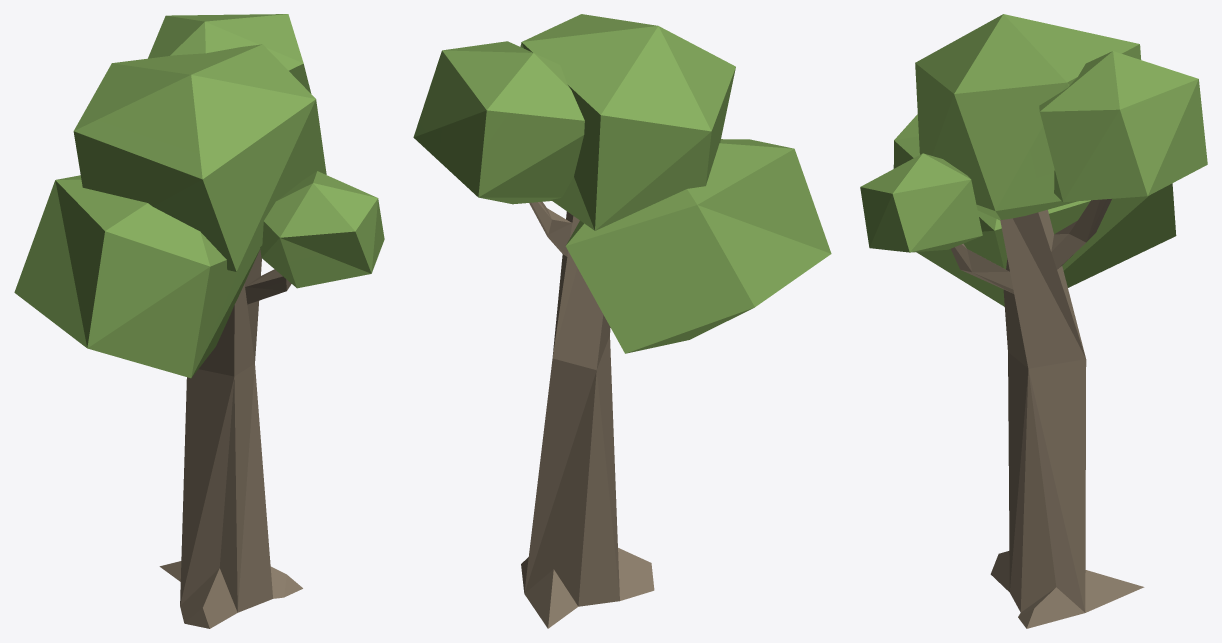
File: Vegetation_Tree_Common_03.fbx
The picture shows the model from 3 angles, left to right: view 1: azimuth 30°, elevation 25°; view 2: azimuth 150°, elevation 25°; view 3: azimuth 270°, elevation 25°; orthographic projection.
Visible parts, largest first — view 1: Vegetation_Tree_Common_03; view 2: Vegetation_Tree_Common_03; view 3: Vegetation_Tree_Common_03.
Part boxes in pixels (x1=…): Vegetation_Tree_Common_03: x1=14, y1=14, x2=384, y2=628; Vegetation_Tree_Common_03: x1=413, y1=14, x2=831, y2=628; Vegetation_Tree_Common_03: x1=860, y1=14, x2=1207, y2=628.
Size of the model in its own units: 2942 by 5061 by 2877.
